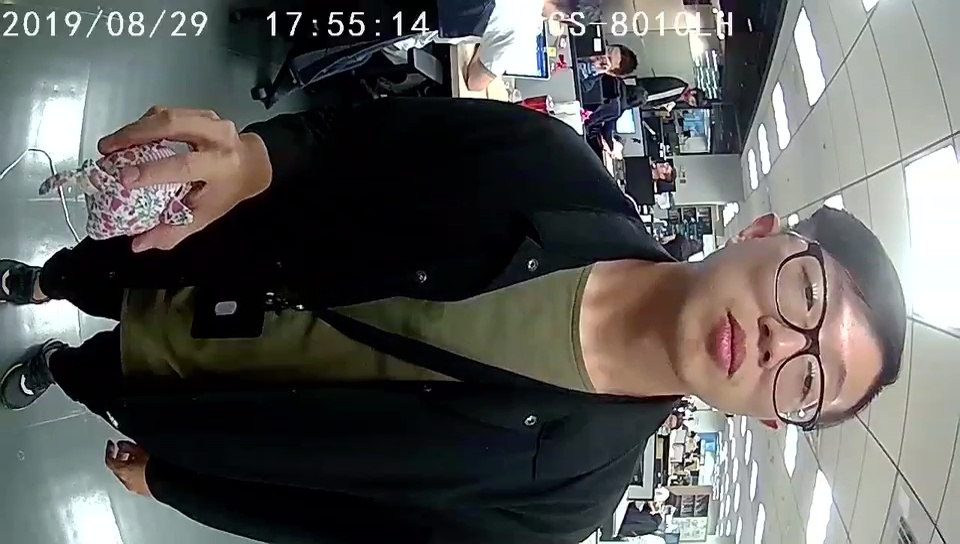pig: (79, 145, 195, 239)
